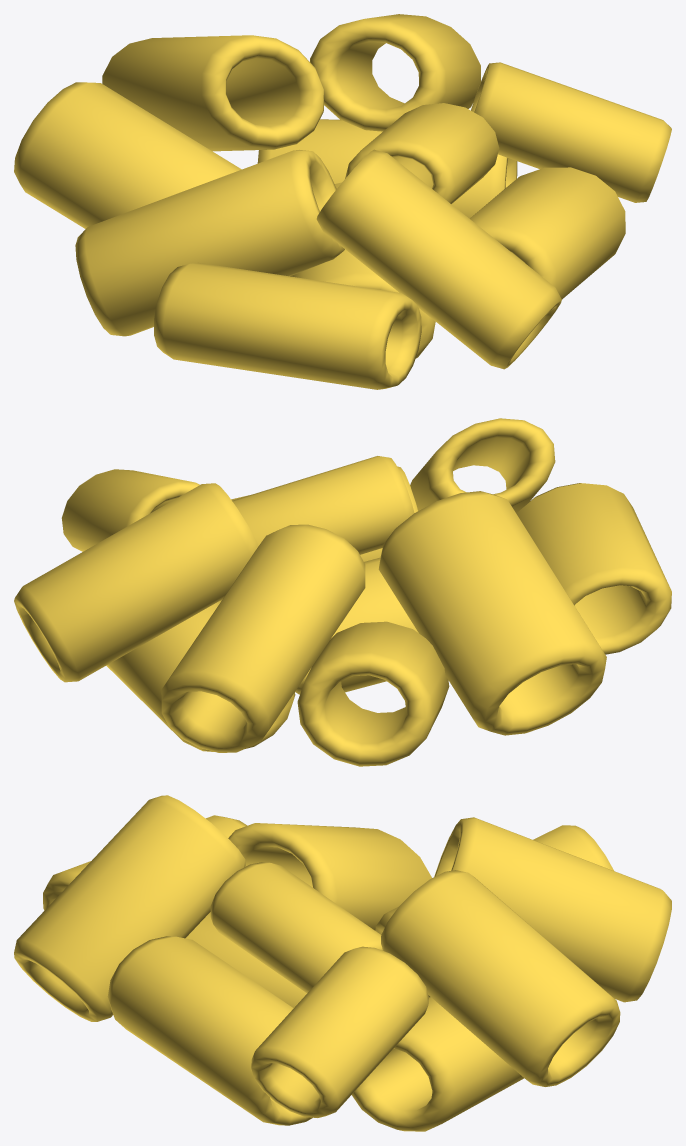
File: SM_Pasta_Plate.fbx
3 renders of one model, top to bottom at view 1: azimuth 30°, elevation 25°; view 2: azimuth 150°, elevation 25°; view 3: azimuth 270°, elevation 25°, orthographic. The views are drawn at different scales.
Parts seen in each view (by area): view 1: Pasta_Plate; view 2: Pasta_Plate; view 3: Pasta_Plate.
Boxes of the visible parts, box(x1,y1,x2,y2) form: Pasta_Plate: box(14, 14, 671, 389); Pasta_Plate: box(14, 418, 671, 766); Pasta_Plate: box(14, 795, 671, 1131).
Bounding box in the file's own units: 120 × 47.18 × 129.
